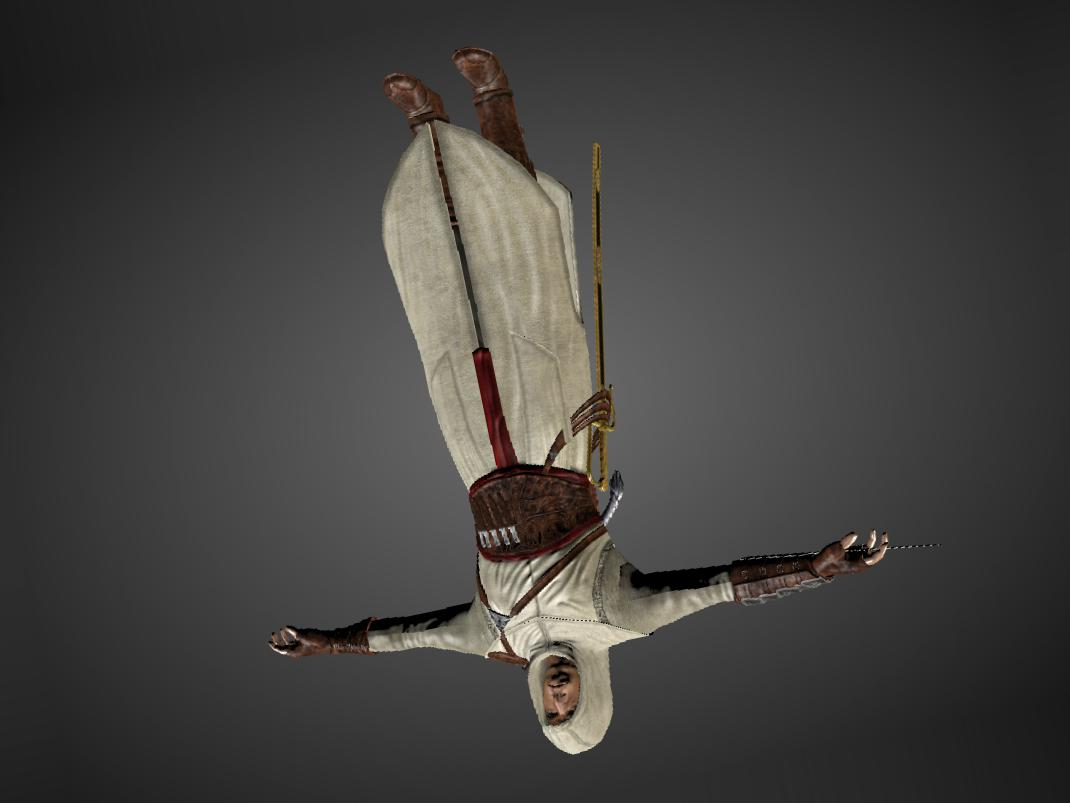clip: (553, 408, 582, 454)
